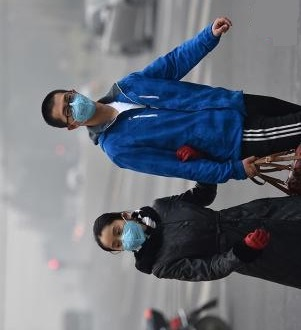person: (39, 24, 301, 184), (87, 189, 301, 286)
